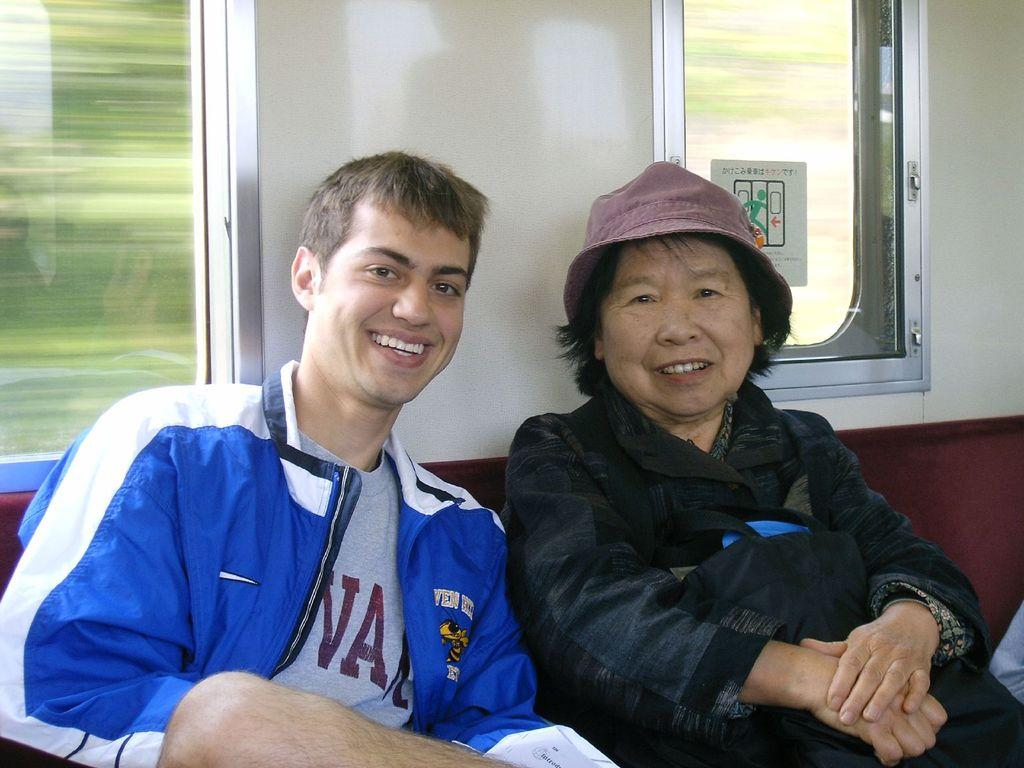Hat: (562, 160, 790, 341)
